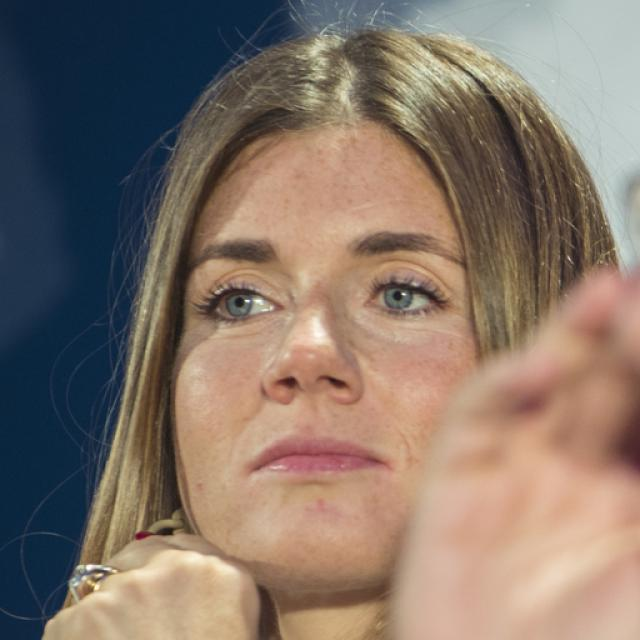sad: (167, 107, 514, 584)
